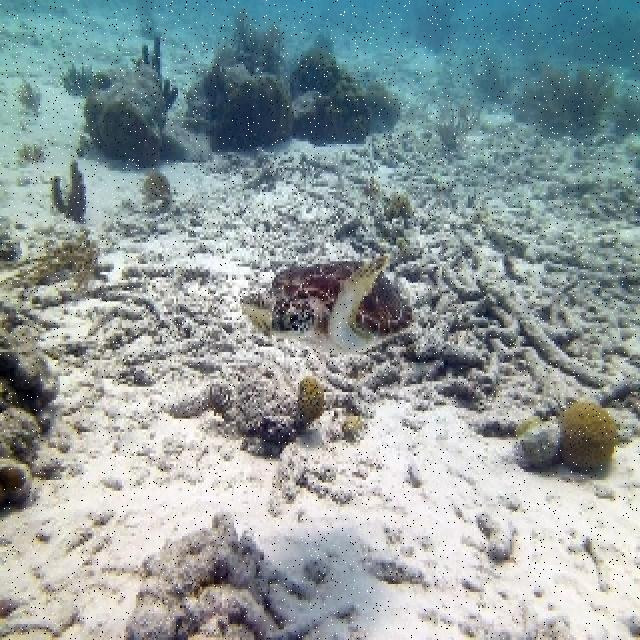aquatic plants: (461, 52, 638, 136)
fish: (241, 252, 413, 346)
reefs: (184, 10, 401, 145), (83, 30, 180, 166), (514, 402, 619, 475), (296, 377, 325, 420)
